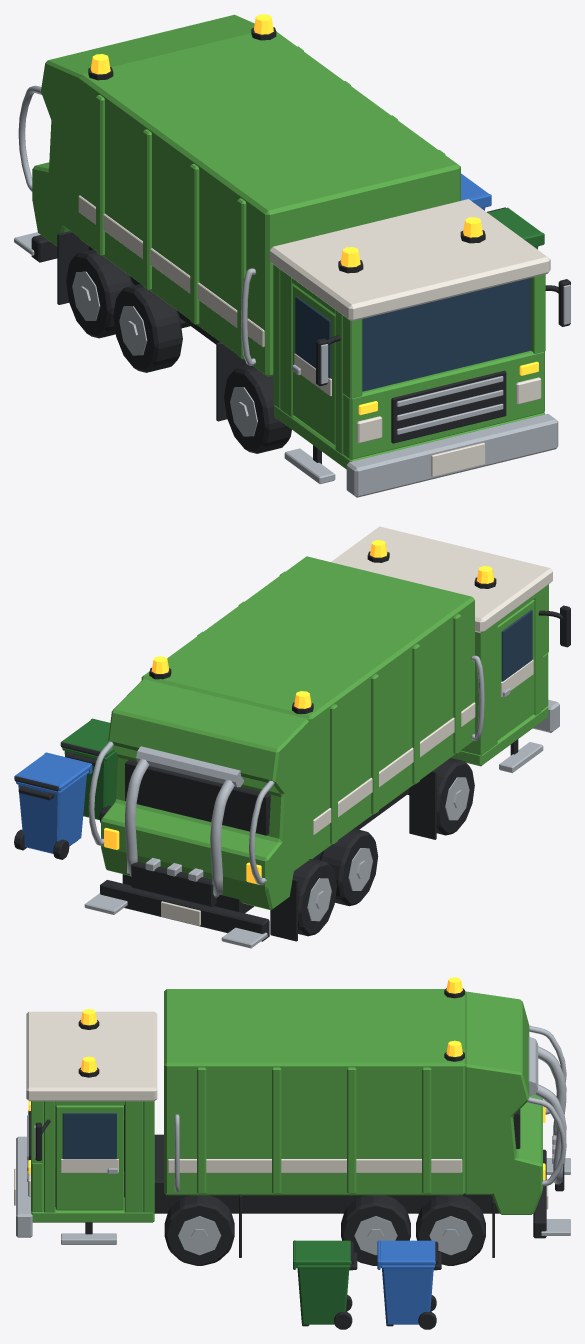
The model's file is low-poly-garbage-truck.glb.
The picture shows the model from 3 angles, top to bottom: view 1: azimuth 30°, elevation 25°; view 2: azimuth 150°, elevation 25°; view 3: azimuth 270°, elevation 25°; orthographic projection. The views are drawn at different scales.
Visible parts, largest first — view 1: Truck_Body, Door_L, Wheel_R1L, Wheel_FL, Wheel_R2L, Lid_Green, Lid_Blue; view 2: Truck_Body, LiftArm, Door_L, WheelieBin_Blue_Body, Wheel_R1L, Wheel_R2L, Wheel_FL, Lid_Blue, WheelieBin_Green_Body, Lid_Green; view 3: Truck_Body, Door_R, Wheel_FR, Wheel_R2R, Wheel_R1R, WheelieBin_Green_Body, WheelieBin_Blue_Body, LiftArm, Lid_Blue, Lid_Green.
Boxes of the visible parts, x1,y1,x2,y2 form: Truck_Body: (14, 14, 570, 497); Door_L: (292, 284, 335, 445); Wheel_R1L: (113, 284, 182, 372); Wheel_FL: (224, 365, 291, 453); Wheel_R2L: (66, 249, 133, 338); Lid_Green: (487, 207, 544, 246); Lid_Blue: (461, 173, 491, 208); Truck_Body: (84, 526, 570, 948); LiftArm: (125, 746, 243, 906); Door_L: (497, 599, 534, 739); WheelieBin_Blue_Body: (14, 770, 88, 859); Wheel_R1L: (319, 828, 378, 906); Wheel_R2L: (293, 858, 336, 936); Wheel_FL: (433, 758, 474, 835); Lid_Blue: (14, 752, 92, 791); WheelieBin_Green_Body: (62, 747, 117, 822); Lid_Green: (60, 718, 114, 757); Truck_Body: (14, 977, 570, 1257); Door_R: (55, 1105, 123, 1210); Wheel_FR: (164, 1195, 234, 1265); Wheel_R2R: (416, 1195, 485, 1265); Wheel_R1R: (341, 1195, 410, 1265); WheelieBin_Green_Body: (296, 1252, 357, 1329); WheelieBin_Blue_Body: (380, 1252, 441, 1329); LiftArm: (528, 1036, 566, 1191); Lid_Blue: (377, 1240, 438, 1269); Lid_Green: (293, 1240, 353, 1269).
Size of the model in its own units: 19.02 by 12.79 by 29.7.
